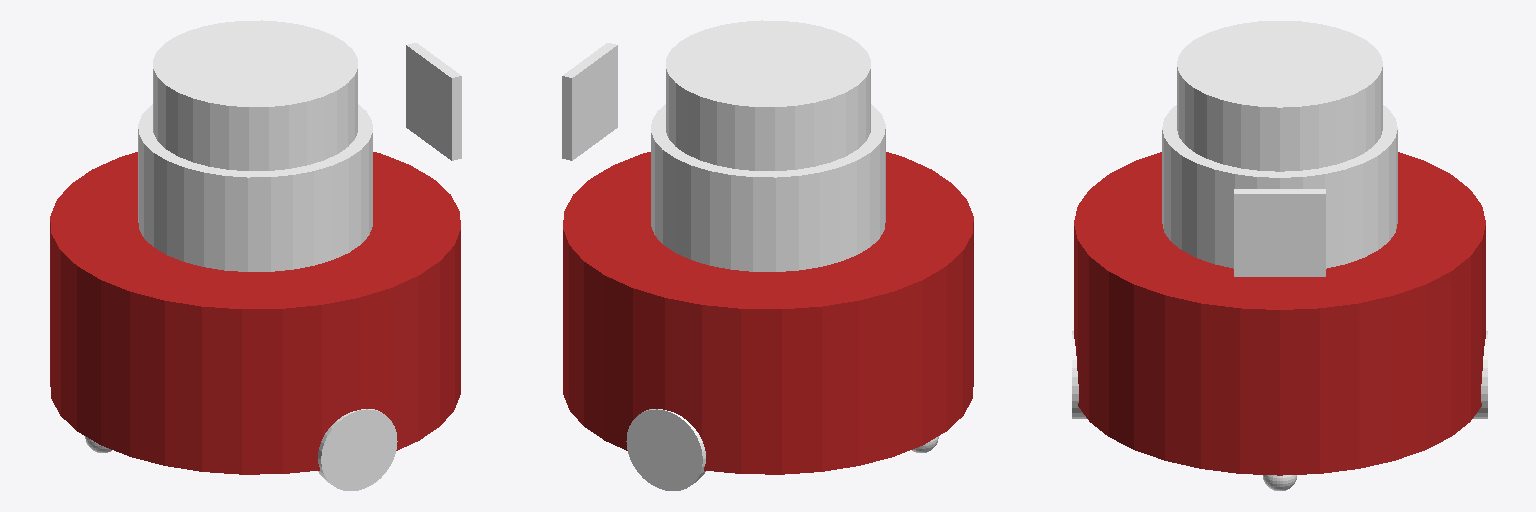
The robot description file, URDF, robot "layka":
<robot name="layka">

  <!-- Base-->

  <link name="base_footprint"/>

  <link name="base_link">
    <visual>
      <origin xyz="0.0 0.0 0.0" rpy="0 0 0"/>
      <geometry>          
          <cylinder length="0.062" radius="0.07"/>
      </geometry>
      <material name="red">
        <color rgba=".8 .2 .2 1" />
      </material>
    </visual>

    <collision>
      <origin xyz="0.0 0.0 0.0" rpy="0 0 0"/>
      <geometry>          
          <cylinder length="0.062" radius="0.07"/>
      </geometry>
      <contact_coefficients mu="0" kp="1000.0" kd="1.0"/>
    </collision>

    <inertial>
      <origin xyz="0.0 0.0 0.0" rpy="0 0 0"/>
      <mass value="5" />
      <inertia ixx="0.01" ixy="0.0" ixz="0" 
            iyy="0.01" iyz="0" izz="0.01" />
    </inertial>

  </link>

  <joint name="base_joint" type="fixed">
    <parent link="base_footprint"/>
    <child link="base_link"/>
    <origin xyz="0 0 0.37" rpy="0 0 0"/>
  </joint>
  
  <!-- Wheel - left -->

   <link name="wheel_left_link">

    <visual>
      <origin xyz="0.0 0.0 0.0" rpy="0.0 0.0 0.0"/>
      <geometry>
          <cylinder radius="0.015" length="0.005"/>
      </geometry>
      <material name="white">
        <color rgba="1 1 1 1"/>
      </material>
    </visual>

    <collision>
      <origin xyz="0.0 0.0 0.0" rpy="0.0 0.0 0.0"/>
      <geometry>
          <cylinder radius="0.015" length="0.005"/>
      </geometry>
      <contact_coefficients mu="0" kp="1000.0" kd="1.0"/>
    </collision>

    <inertial>
      <origin xyz="0.0 0.0 0.0" rpy="0.0 0.0 0.0"/>
      <mass value="1" />
      <inertia ixx="0.01" ixy="0.0" ixz="0" 
            iyy="0.01" iyz="0" izz="0.01" />
    </inertial>

  </link>

  <joint name="wheel_left_joint" type="continuous">
    <origin xyz="0.0 0.068 -0.026" rpy="-1.57 0.0 0.0"/>
    <parent link="base_link"/>
    <child link="wheel_left_link"/>
    <axis xyz="0.0 0.0 1.0"/>
    <joint_properties damping="0.0" friction="0.0"/>
  </joint>

  <!-- Wheel - right -->

  <link name="wheel_right_link">

    <visual>
      <origin xyz="0.0 0.0 0.0" rpy="0.0 0.0 0.0"/>
      <geometry>
          <cylinder radius="0.015" length="0.005"/>
      </geometry>
      <material name="white">
        <color rgba="1 1 1 1"/>
      </material>
    </visual>

    <collision>
      <origin xyz="0.0 0.0 0.0" rpy="0.0 0.0 0.0"/>
      <geometry>
          <cylinder radius="0.015" length="0.005"/>
      </geometry>
      <contact_coefficients mu="0" kp="1000.0" kd="1.0"/>
    </collision>

    <inertial>
      <origin xyz="0.0 0.0 0.0" rpy="0.0 0.0 0.0"/>
      <mass value="2" />
      <inertia ixx="0.01" ixy="0.0" ixz="0" 
            iyy="0.01" iyz="0" izz="0.01" />
    </inertial>

  </link>

  <joint name="wheel_right_joint" type="continuous">
    <origin xyz="0.0 -0.068 -0.026" rpy="-1.57 0.0 0.0"/>
    <parent link="base_link"/>
    <child link="wheel_right_link"/>
    <axis xyz="0.0 0.0 1.0"/>
    <joint_properties damping="0.0" friction="0.0"/>
  </joint>

  <!-- Caster - front -->

  <link name="caster_front_link">

    <visual>    
      <geometry>
        <sphere radius="0.006" />
      </geometry>
      <material name="white" />
    </visual>

    <collision>
      <origin/>
      <geometry>
        <sphere radius="0.006" />
      </geometry>
      <contact_coefficients mu="0" kp="1000.0" kd="1.0"/>
    </collision>

    <inertial>
      <mass value="0.5"/>
      <origin xyz="0 0 0"/>
      <inertia ixx="0.001" ixy="0.0" ixz="0.0" iyy="0.001" iyz="0.0" izz="0.001"/>
    </inertial>

  </link>

  <joint name="caster_front_joint" type="fixed">
    <origin xyz="0.06 0.0 -0.035" rpy="0.0 0.0 0.0"/>
    <axis xyz="0 0 1" />
    <parent link="base_link"/>
    <child link="caster_front_link"/>
  </joint>

  <!-- Caster - back -->

  <link name="caster_back_link">

    <visual>    
      <geometry>
        <sphere radius="0.006" />
      </geometry>
      <material name="white" />
    </visual>

    <collision>
      <origin/>
      <geometry>
        <sphere radius="0.006" />
      </geometry>
      <contact_coefficients mu="0" kp="1000.0" kd="1.0"/>
    </collision>

    <inertial>
      <mass value="0.5"/>
      <origin xyz="0 0 0"/>
      <inertia ixx="0.001" ixy="0.0" ixz="0.0" iyy="0.001" iyz="0.0" izz="0.001"/>
    </inertial>

  </link>

  <joint name="caster_back_joint" type="fixed">
    <origin xyz="-0.06 0.0 -0.035" rpy="0.0 0.0 0.0"/>
    <axis xyz="0 0 1" />
    <parent link="base_link"/>
    <child link="caster_back_link"/>
  </joint> 

  <!-- IMU -->

  <link name="imu_link"> 
  </link>

  <joint name="imu_joint" type="fixed">
    <parent link="base_link"/>
    <child link="imu_link"/>
  </joint>

  <!-- Lidar -->

  <link name="lidar_platform_link">
    <visual>      
      <geometry>
        <cylinder radius="0.040" length="0.042"/>
      </geometry>
      <material name="white">
        <color rgba="1 1 1 1"/>
      </material>
    </visual>

    <inertial>
      <mass value="0.5" />
        <inertia ixx="0.01" ixy="0.0" ixz="0" 
          iyy="0.01" iyz="0" izz="0.01" />
    </inertial>
  </link>

  <link name="lidar_scanner_link">
    <visual>      
      <geometry>
        <cylinder radius="0.035" length="0.024"/>
      </geometry>
      <material name="white">
        <color rgba="1 1 1 1"/>
      </material>
    </visual>

    <inertial>
      <mass value="0.5" />
        <inertia ixx="0.01" ixy="0.0" ixz="0" 
          iyy="0.01" iyz="0" izz="0.01" />
    </inertial>
  </link>

  <joint name="lidar_platform_joint" type="fixed">
    <origin xyz="0 0 0.0455" rpy="0 0 0"/>
    <parent link="base_link"/>
    <child link="lidar_platform_link"/>
    <axis xyz="0.0 0.0 1.0"/>
  </joint>

  <joint name="lidar_scanner_joint" type="fixed">
    <origin xyz="0 0 0.0785" rpy="0 0 0"/>
    <parent link="base_link"/>
    <child link="lidar_scanner_link"/>
    <axis xyz="0.0 0.0 1.0"/>
  </joint>

  <!-- Camera -->

  <link name="camera_link">
    <visual>
      <geometry>
        <box size="0.004 0.031 0.031"/>
      </geometry>

      <material name="white">
        <color rgba="1 1 1 1"/>
      </material>

      <inertial>
              <mass value="0.1" />
              <inertia ixx="0.01" ixy="0.0" ixz="0" 
              iyy="0.01" iyz="0" izz="0.01" />
      </inertial>
    </visual>

    <collision>
      <geometry>
          <box size="0.1 0.1 0.05"/>
      </geometry>
    </collision>
  </link>

  <joint name="camera_joint" type="fixed">
    <origin xyz="0.07 0 0.060" rpy="0 0 0"/>
    <parent link="base_link"/>
    <child link="camera_link"/>
    <axis xyz="0.0 0.0 1.0"/>
  </joint>

  <gazebo reference="caster_front_link">
    <material>Gazebo/White</material>
    <turnGravityOff>false</turnGravityOff>
  </gazebo>

  <gazebo reference="caster_front_link">
    <material>Gazebo/White</material>
    <turnGravityOff>false</turnGravityOff>
  </gazebo>



<!-- Gazebo colors to links as upper defined colors are only visible in RVIZ-->
<gazebo reference="base_link">
  <material>Gazebo/DarkGrey</material>
</gazebo>

<gazebo reference="wheel_right_link">
  <material>Gazebo/Grey</material>
</gazebo>

<gazebo reference="wheel_left_link">
  <material>Gazebo/Grey</material>
</gazebo> 

<gazebo reference="lidar_platform_link">
  <material>Gazebo/Grey</material>
</gazebo> 

<gazebo reference="lidar_scanner_link">
  <material>Gazebo/Grey</material>
</gazebo> 

<gazebo reference="camera_link">
  <material>Gazebo/Grey</material>
</gazebo>

<!-- Differential drive plugin -->
  <gazebo>
    <plugin filename="libgazebo_ros_diff_drive.so" name="gazebo_base_controller">
      <odometry_frame>odom</odometry_frame>
      <commandTopic>cmd_vel</commandTopic>
      <publish_odom>true</publish_odom>
      <publish_odom_tf>true</publish_odom_tf>
      <publish_wheel_tf>false</publish_wheel_tf>
      <update_rate>15.0</update_rate>
      <left_joint>wheel_left_joint</left_joint>
      <right_joint>wheel_right_joint</right_joint>
      <wheel_separation>0.136</wheel_separation>
      <wheel_diameter>0.03</wheel_diameter>
      <max_wheel_acceleration>0.7</max_wheel_acceleration>
      <max_wheel_torque>8</max_wheel_torque>
      <robotBaseFrame>base_link</robotBaseFrame>

    </plugin>
  </gazebo>

<!-- IMU  - Gazebo -->
  <gazebo reference="imu_link">
    <gravity>true</gravity>
    <sensor name="imu_sensor" type="imu">
      <always_on>true</always_on>
      <update_rate>100</update_rate>
      <visualize>true</visualize>

      <imu>
        <angular_velocity>
          <x>
            <noise type="gaussian">
              <mean>0.0</mean>
              <stddev>2e-4</stddev>
            </noise>
          </x>
          <y>
            <noise type="gaussian">
              <mean>0.0</mean>
              <stddev>2e-4</stddev>
            </noise>
          </y>
          <z>
            <noise type="gaussian">
              <mean>0.0</mean>
              <stddev>2e-4</stddev>
            </noise>
          </z>
        </angular_velocity>
        <linear_acceleration>
          <x>
            <noise type="gaussian">
              <mean>0.0</mean>
              <stddev>1.7e-2</stddev>
            </noise>
          </x>
          <y>
            <noise type="gaussian">
              <mean>0.0</mean>
              <stddev>1.7e-2</stddev>
            </noise>
          </y>
          <z>
            <noise type="gaussian">
              <mean>0.0</mean>
              <stddev>1.7e-2</stddev>
            </noise>
          </z>
        </linear_acceleration>
      </imu>

      <plugin filename="libgazebo_ros_imu_sensor.so" name="imu_plugin">
        <ros>
            <remapping>~/out:=imu</remapping>
        </ros>
        <topicName>imu</topicName>
        <bodyName>imu_link</bodyName>
        <updateRateHZ>10.0</updateRateHZ>
        <xyzOffset>0 0 0</xyzOffset>
        <rpyOffset>0 0 0</rpyOffset>
        <frameName>imu_link</frameName>
        <initialOrientationAsReference>false</initialOrientationAsReference>
      </plugin>
      <pose>0 0 0 0 0 0</pose>
    </sensor>
  </gazebo>

<!-- Lidar - Gazebo -->
  <gazebo reference="lidar_scanner_link">
    <sensor name="gazebo_lidar" type="ray">
     <visualize>true</visualize>
      <update_rate>5.5</update_rate>
      <plugin filename="libgazebo_ros_ray_sensor.so" name="gazebo_lidar">
        <ros>
          <remapping>~/out:=scan</remapping>
        </ros>
        
        <output_type>sensor_msgs/LaserScan</output_type>
        <frame_name>lidar</frame_name>
      </plugin>
      <ray>
        
        <scan>
          <horizontal>
            <samples>360</samples>
            <resolution>1</resolution>
            <min_angle>0</min_angle>
            <max_angle>-6.28</max_angle>
          </horizontal>
        </scan>

        <range>
          <min>0.15</min>
          <max>12</max>
          <resolution>0.002</resolution>
        </range>
        
          <!-- EXAMPLE NOISE: Noise parameters based on published spec for Hokuyo laser
               achieving "+-30mm" accuracy at range < 10m.  A mean of 0.0m and
               stddev of 0.01m will put 99.7% of samples within 0.03m of the true
               reading. 
          <mean>0.0</mean>
          <stddev>0.01</stddev>
          -->

        <!--
        <noise>
          <type>gaussian</type>
          <mean>0.0</mean>
          <stddev>0.01</stddev>
        </noise>
        -->

      </ray>
    </sensor>
  </gazebo>

  <!-- Camera - Gazebo -->

  <gazebo reference="camera_link">
    <sensor type="camera" name="camera1">
      <update_rate>30.0</update_rate>
      <camera name="head">
        <horizontal_fov>1.3962634</horizontal_fov>
        <image>
          <width>640</width>
          <height>480</height>
          <format>R8G8B8</format>
        </image>
        <clip>
          <near>0.02</near>
          <far>300</far>
        </clip>
      </camera>
      <plugin name="camera_controller" filename="libgazebo_ros_camera.so">
        <alwaysOn>true</alwaysOn>
        <updateRate>0.0</updateRate>
        <cameraName>/camera</cameraName>
        <imageTopicName>image_raw</imageTopicName>
        <cameraInfoTopicName>camera_info</cameraInfoTopicName>
        <frameName>camera_link</frameName>
        <hackBaseline>0.07</hackBaseline>
      </plugin>
    </sensor>
  </gazebo>

</robot>

--- Facts derived from the render (not from the file) ---
The picture shows the robot from 3 angles, left to right: view 1: azimuth 30°, elevation 25°; view 2: azimuth 150°, elevation 25°; view 3: azimuth 270°, elevation 25°; orthographic projection.
Robot: layka — 10 links, 9 joints (2 continuous, 7 fixed); root link base_footprint; default pose: all joints at 0.
Visible links, largest first — view 1: base_link, lidar_scanner_link, lidar_platform_link, camera_link, wheel_right_link; view 2: base_link, lidar_scanner_link, lidar_platform_link, camera_link, wheel_left_link; view 3: base_link, lidar_scanner_link, lidar_platform_link, camera_link.
Boxes of the visible links, bbox=[...] form: base_link: bbox=[50, 152, 460, 474]; lidar_scanner_link: bbox=[153, 20, 357, 170]; lidar_platform_link: bbox=[138, 104, 372, 271]; camera_link: bbox=[406, 43, 461, 160]; wheel_right_link: bbox=[318, 409, 397, 490]; base_link: bbox=[563, 152, 973, 474]; lidar_scanner_link: bbox=[666, 20, 870, 170]; lidar_platform_link: bbox=[651, 104, 885, 271]; camera_link: bbox=[562, 43, 617, 160]; wheel_left_link: bbox=[626, 409, 705, 490]; base_link: bbox=[1074, 152, 1485, 475]; lidar_scanner_link: bbox=[1177, 21, 1382, 171]; lidar_platform_link: bbox=[1162, 105, 1397, 268]; camera_link: bbox=[1234, 189, 1325, 276].
Bounding box of the posed robot: 0.142 × 0.141 × 0.1315 m (x, y, z).
Geometry: primitives only (box / cylinder / sphere), no mesh files.
